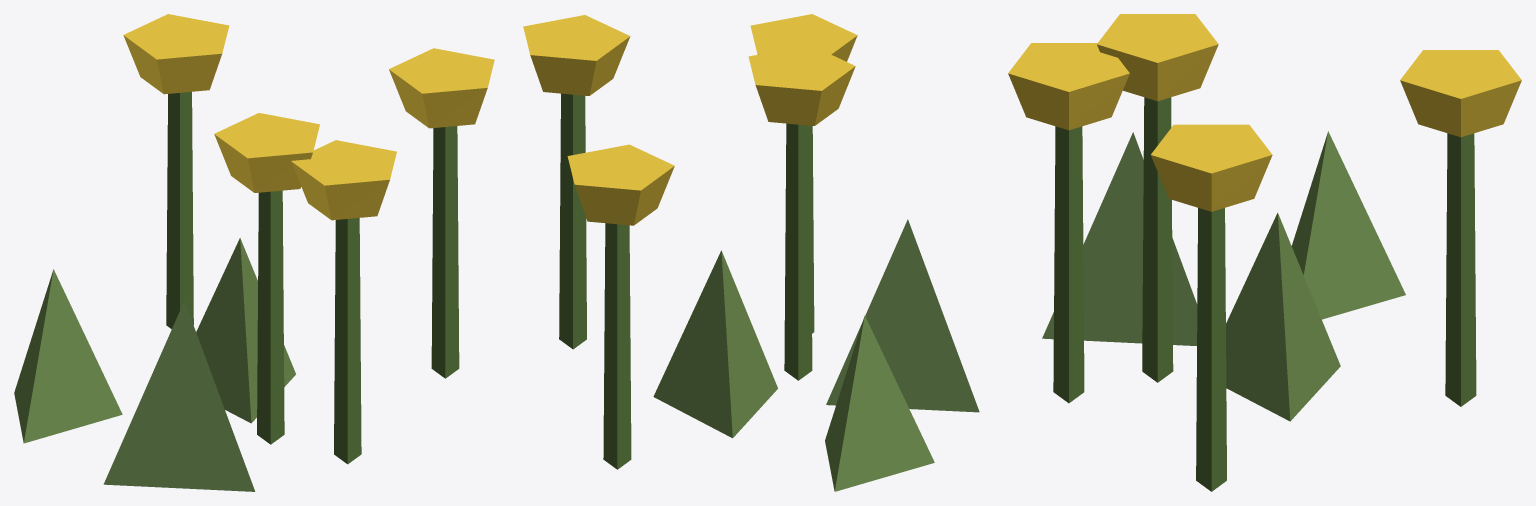
Rendered from dandelion_1.obj.
The picture shows the model from 3 angles, left to right: view 1: azimuth 30°, elevation 25°; view 2: azimuth 150°, elevation 25°; view 3: azimuth 270°, elevation 25°; orthographic projection. The views are drawn at different scales.
Parts seen in each view (by area): view 1: dandelion_1; view 2: dandelion_1; view 3: dandelion_1.
Part boxes in pixels (<box>): dandelion_1: <box>14,14,494,491</box>; dandelion_1: <box>523,14,979,491</box>; dandelion_1: <box>1008,14,1521,491</box>.
Size of the model in its own units: 0.4446 by 0.292 by 0.4007.
